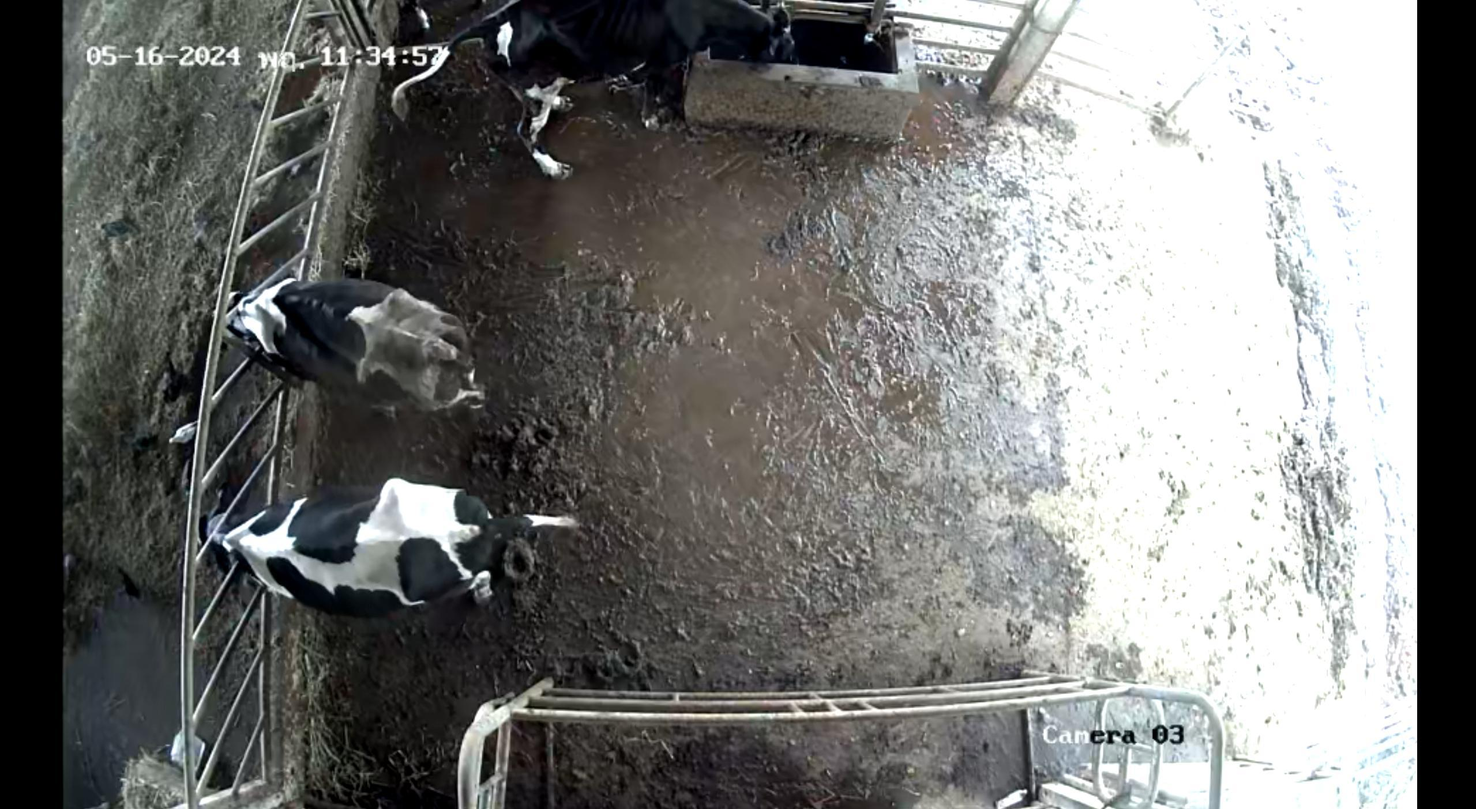drink: (692, 0, 805, 127)
eat: (153, 477, 291, 589), (180, 270, 306, 375)
